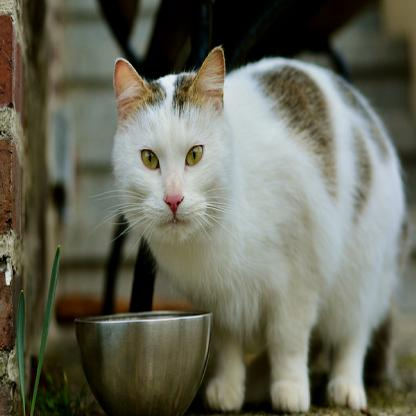cat: (112, 46, 406, 413)
